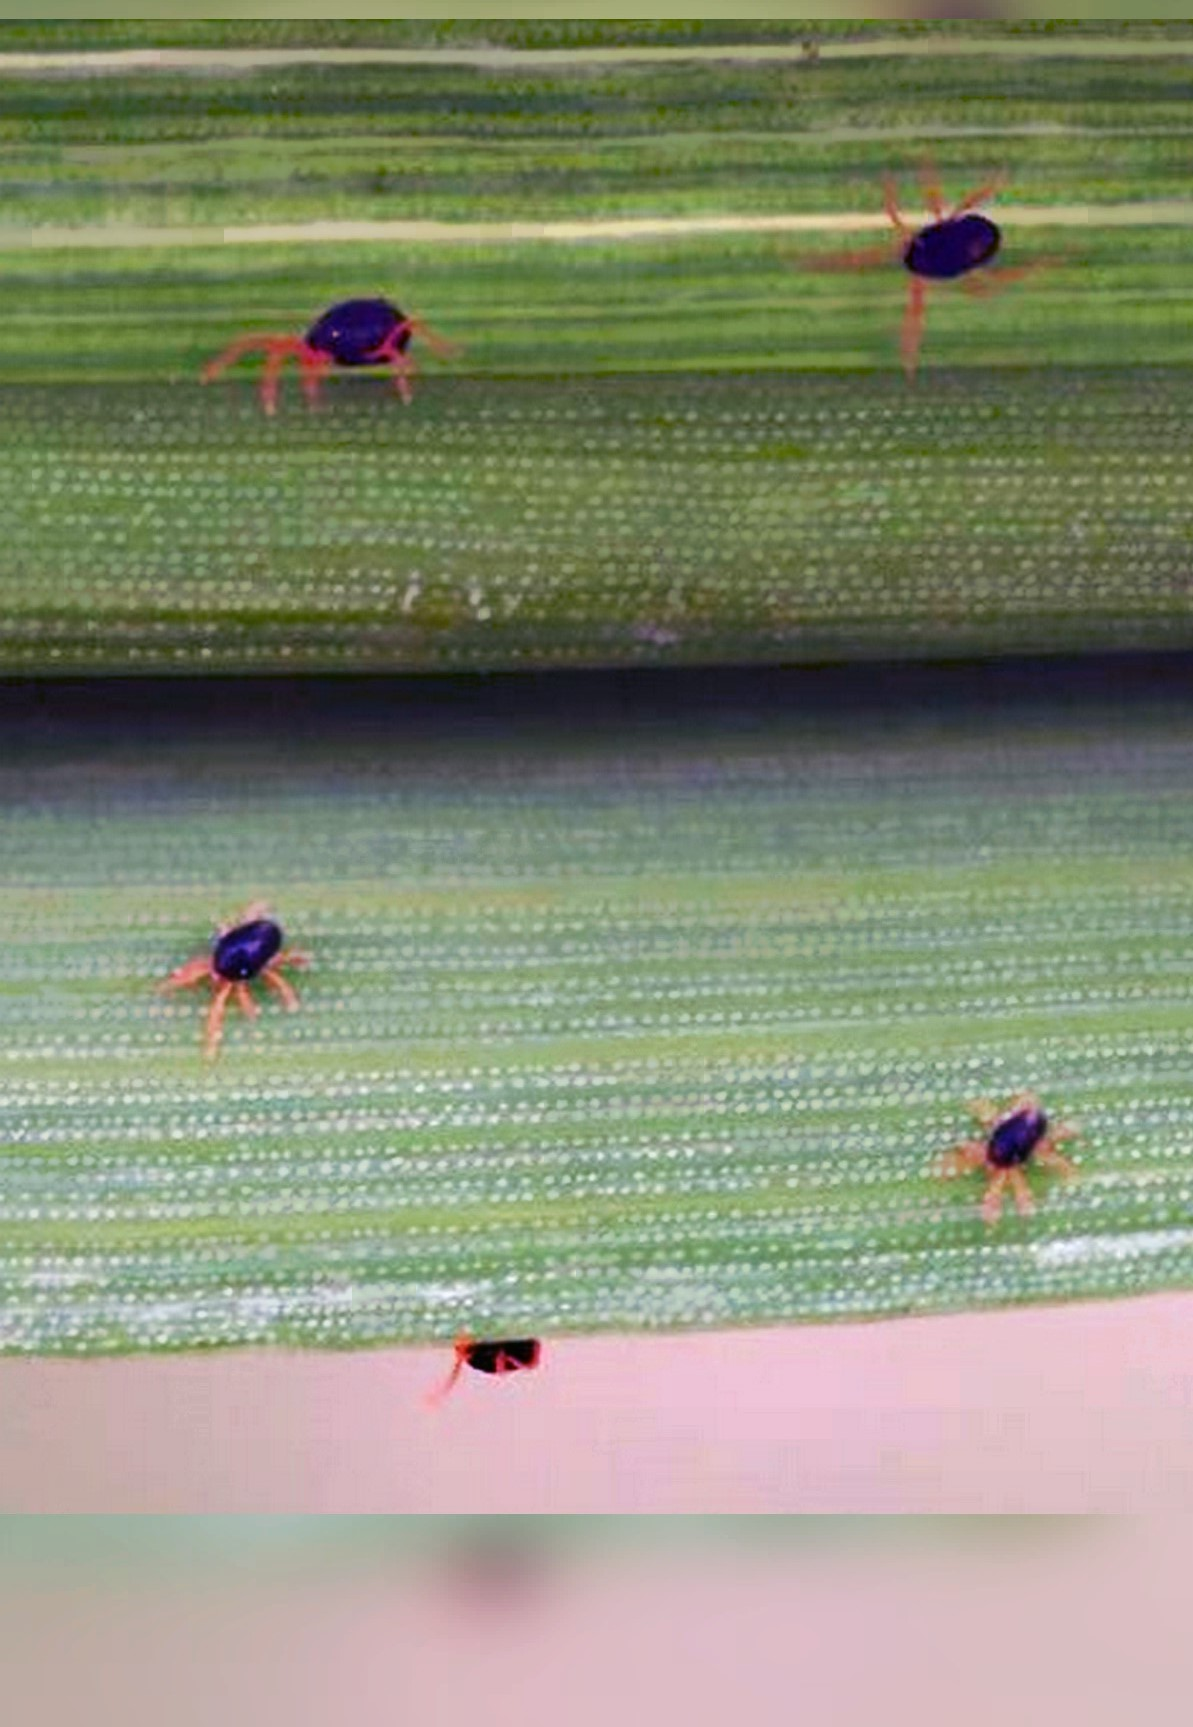Wheat Red Spider: (175, 264, 459, 430), (138, 871, 346, 1068)
